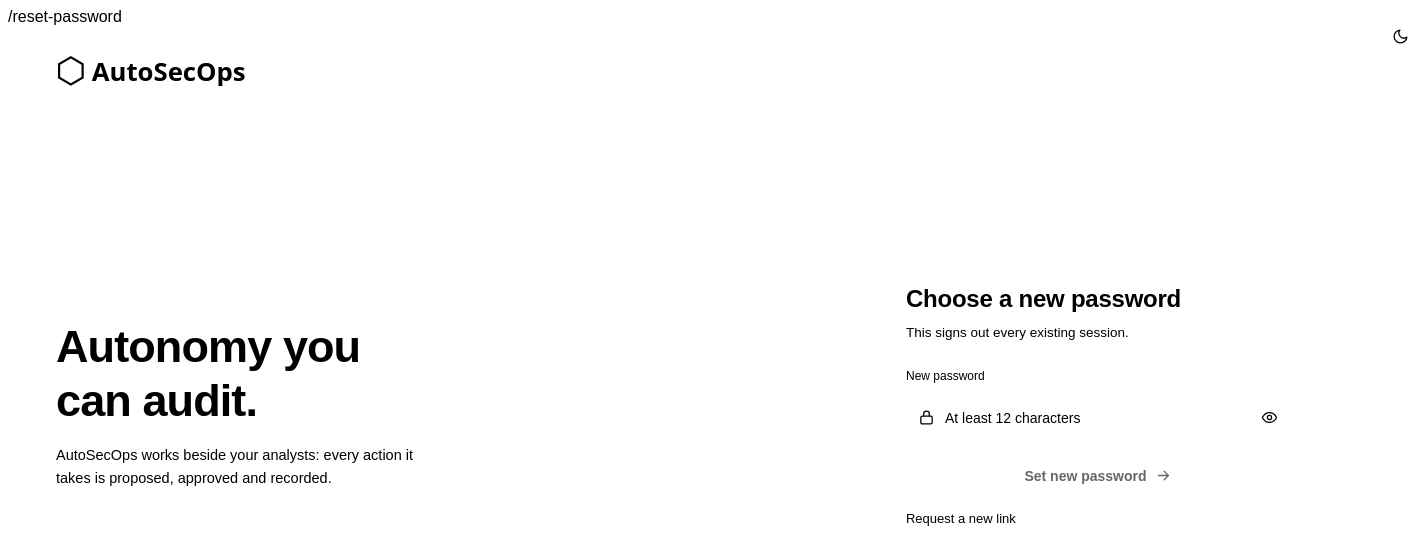
ResetPasswordScreen › explains that a single-sign-on account has no password to reset
In the password field labelled "New password": (1098,418) x1=906 y1=399 x2=1290 y2=437, type "a-long-new-passphrase"
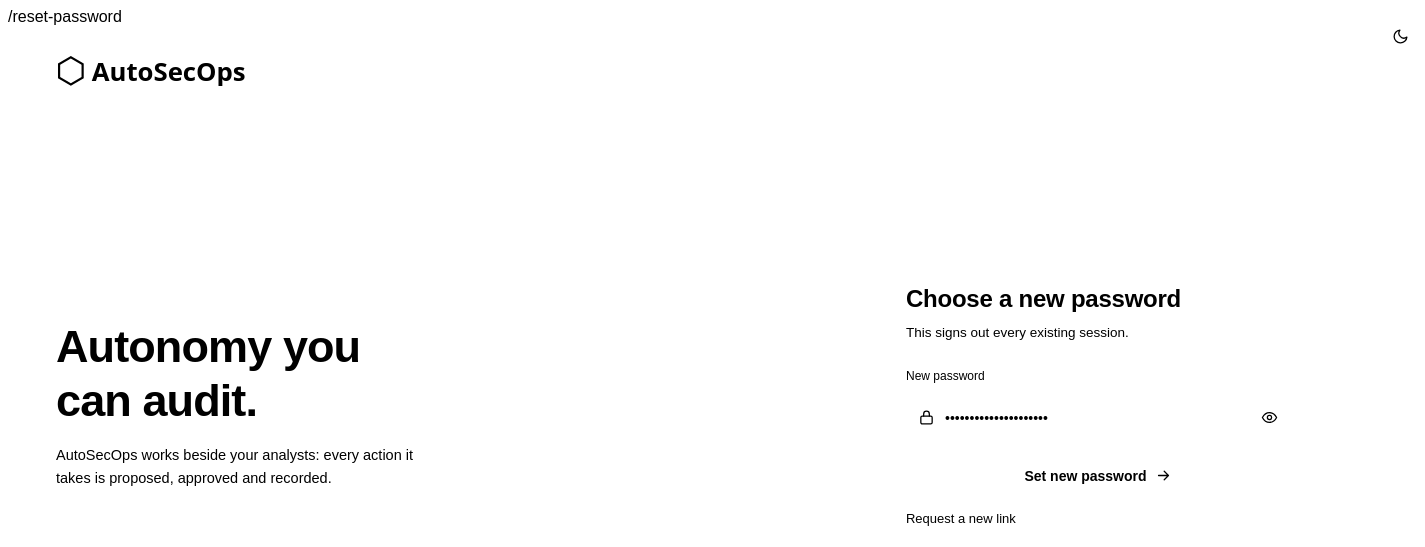
Click the button "Set new password": (1098,476) x1=906 y1=453 x2=1290 y2=499
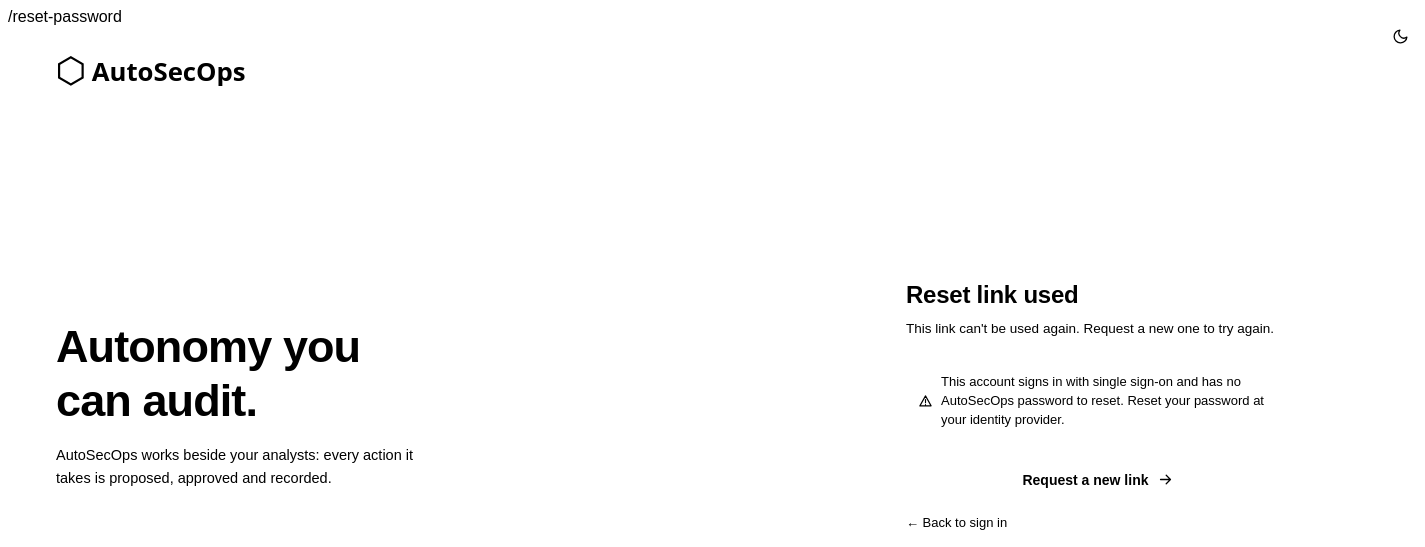
Check: the message shows "single sign-on", box x1=941 y1=374 x2=1264 y2=427
Check: the message shows "identity provider", box x1=941 y1=374 x2=1264 y2=427
